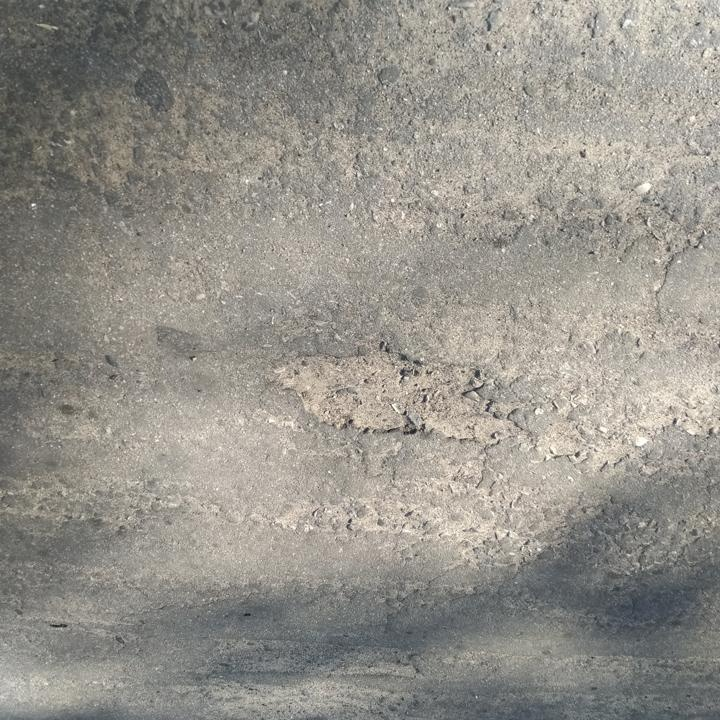pothole: (272, 341, 524, 448)
